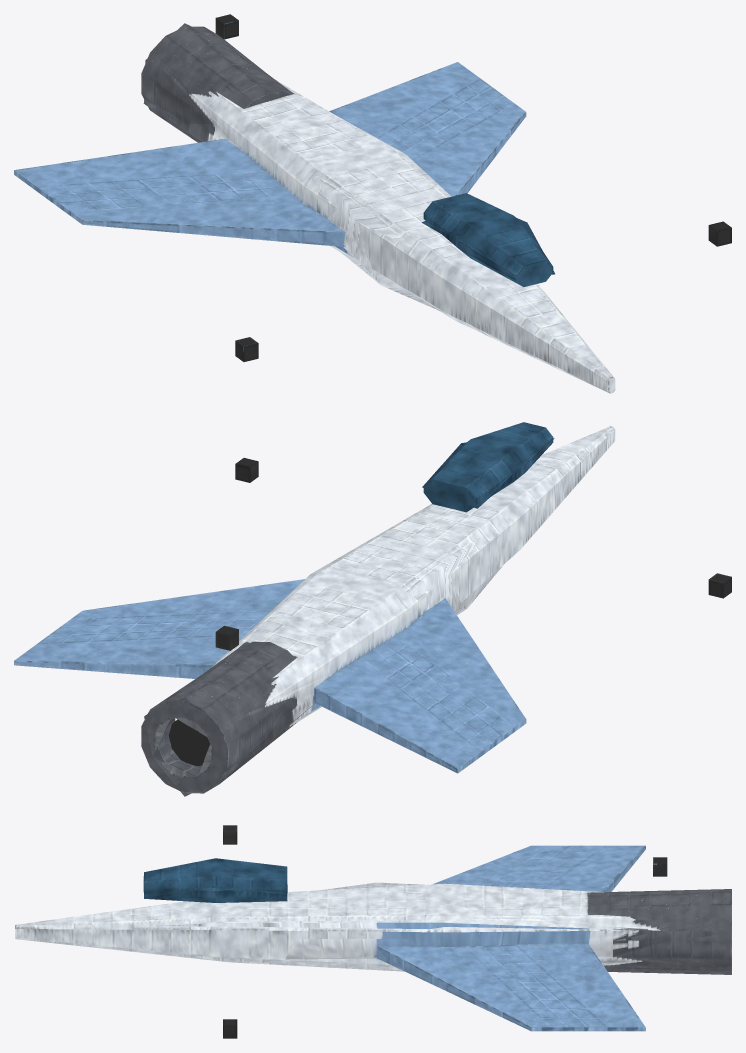
The model's file is sd_npc_courier.glb.
3 renders of one model, top to bottom at view 1: azimuth 30°, elevation 25°; view 2: azimuth 150°, elevation 25°; view 3: azimuth 270°, elevation 25°, orthographic. The views are drawn at different scales.
Visible parts, largest first — view 1: LOD0_body, LOD1_body; view 2: LOD0_body, LOD1_body; view 3: LOD0_body, LOD1_body.
Part boxes in pixels (<box>): LOD0_body: <box>14,14,731,393</box>; LOD1_body: <box>49,23,554,311</box>; LOD0_body: <box>14,422,731,793</box>; LOD1_body: <box>34,438,554,796</box>; LOD0_body: <box>15,825,731,1038</box>; LOD1_body: <box>143,849,731,971</box>.
Size of the model in its own units: 0.66 by 0.1744 by 1.
Materials: 1 (1 with a texture image).
